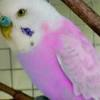budgie: (1, 1, 100, 100)
